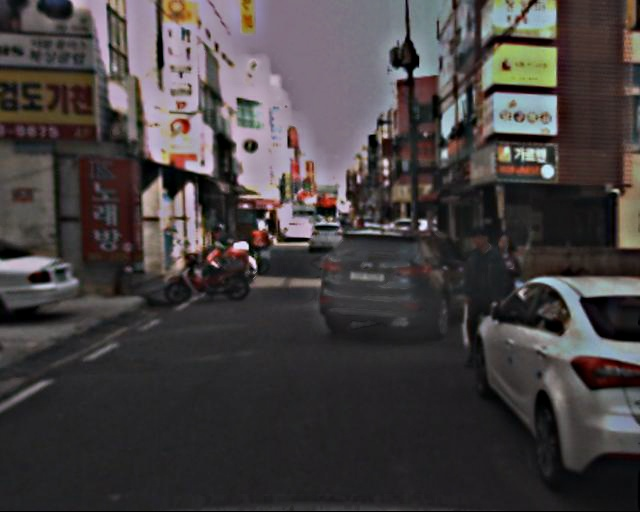person: (461, 226, 507, 362), (489, 230, 528, 343)
